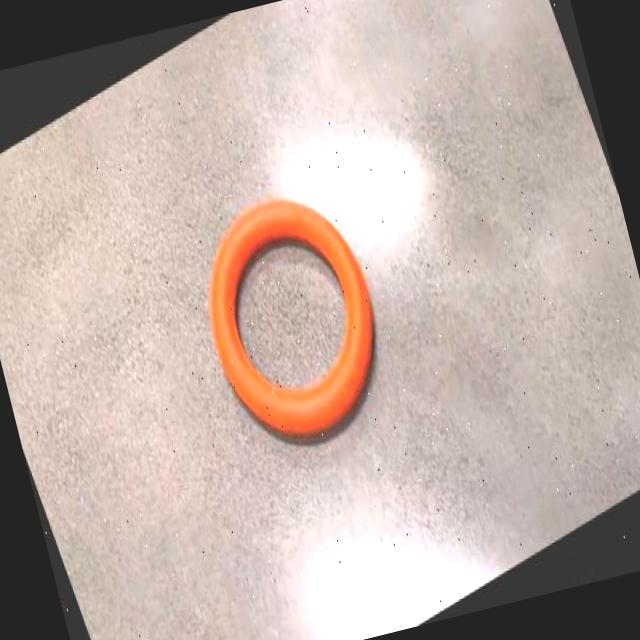note: (209, 196, 372, 436), (209, 198, 372, 433)
